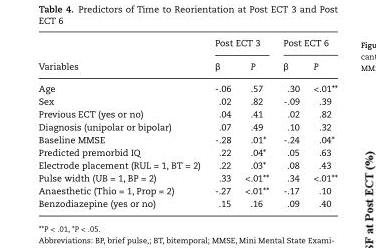table: (37, 37, 336, 208)
table column: (37, 37, 207, 208), (237, 37, 275, 208), (305, 37, 336, 208), (207, 37, 237, 208), (275, 37, 305, 208)
table column header: (37, 37, 336, 76)
table row: (37, 53, 336, 76), (37, 76, 336, 94), (37, 37, 336, 53), (37, 94, 336, 107), (37, 107, 336, 120), (37, 132, 336, 145), (37, 145, 336, 158), (37, 158, 336, 171), (37, 183, 336, 196), (37, 120, 336, 132), (37, 171, 336, 183), (37, 196, 336, 208)
table spanning cell: (37, 37, 207, 76), (207, 37, 275, 53), (275, 37, 336, 53)
